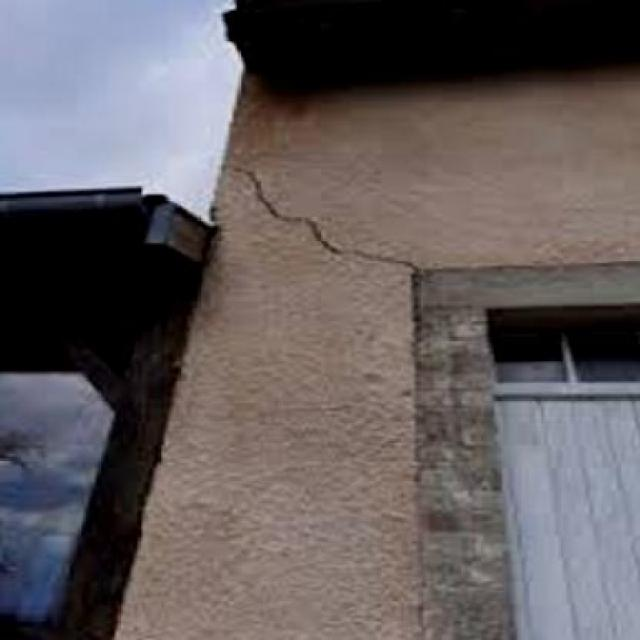Crack: (216, 152, 427, 282)
